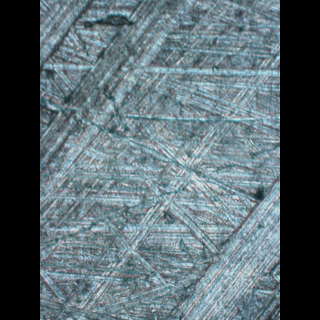d: (39, 0, 200, 205)
